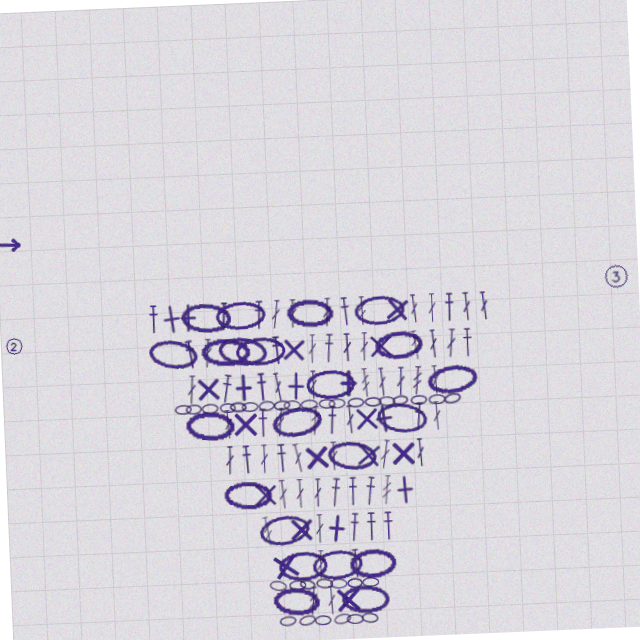chain: (145, 330, 198, 367), (371, 403, 425, 439), (249, 511, 302, 546), (266, 403, 319, 438), (215, 331, 267, 366), (423, 368, 476, 402), (320, 440, 372, 474), (301, 549, 354, 581), (180, 297, 232, 329), (260, 584, 310, 617), (180, 405, 231, 437), (354, 297, 406, 328), (215, 297, 266, 328), (286, 297, 335, 329), (216, 477, 266, 508), (199, 333, 249, 364), (373, 333, 423, 364), (329, 586, 379, 616), (268, 550, 318, 580), (234, 334, 284, 364), (339, 550, 387, 580), (303, 370, 352, 399), (286, 613, 304, 626), (321, 613, 339, 626), (440, 397, 458, 410), (258, 578, 276, 590), (288, 578, 305, 590), (267, 614, 284, 625), (349, 614, 366, 625), (305, 578, 322, 589), (226, 398, 243, 409), (270, 398, 287, 409), (255, 398, 271, 409), (389, 398, 405, 409), (302, 615, 319, 625), (334, 615, 351, 625), (278, 579, 295, 589), (319, 579, 336, 589), (351, 579, 368, 589), (171, 399, 188, 409), (198, 399, 215, 409), (238, 399, 255, 409), (280, 399, 297, 409), (297, 399, 314, 409), (315, 399, 332, 409), (325, 399, 342, 409), (344, 399, 361, 409), (361, 399, 378, 409), (375, 399, 392, 409), (407, 399, 424, 409), (425, 399, 442, 409), (336, 579, 352, 589), (182, 399, 198, 409), (216, 399, 232, 409)
double: (285, 442, 300, 472), (373, 442, 386, 472), (269, 370, 282, 400), (270, 478, 282, 507), (270, 406, 282, 435), (183, 370, 195, 399), (200, 334, 212, 363), (444, 334, 456, 363), (270, 298, 282, 327), (374, 370, 385, 399), (427, 334, 438, 363), (322, 298, 333, 327), (409, 298, 420, 327), (479, 298, 490, 327), (315, 586, 325, 615), (306, 514, 316, 543), (288, 478, 298, 507), (219, 442, 229, 471), (323, 442, 333, 471), (410, 442, 420, 471), (219, 406, 229, 435), (341, 406, 351, 435), (428, 406, 438, 435), (393, 370, 403, 399), (428, 370, 438, 399), (306, 334, 316, 363), (341, 334, 351, 363), (358, 334, 368, 363), (288, 298, 298, 327), (462, 298, 472, 327), (306, 550, 315, 579), (306, 478, 315, 507), (254, 442, 263, 471), (306, 370, 315, 399), (428, 298, 437, 327)
half_double: (216, 370, 231, 400), (321, 478, 335, 508), (356, 478, 370, 508), (182, 334, 196, 364), (339, 514, 352, 543), (408, 406, 421, 435), (269, 334, 282, 363), (321, 334, 334, 363), (339, 298, 352, 327), (340, 550, 352, 579), (235, 442, 247, 471), (270, 442, 282, 471), (322, 406, 334, 435), (253, 370, 265, 399), (218, 298, 230, 327), (253, 298, 265, 327), (357, 514, 368, 543), (374, 514, 385, 543), (340, 478, 351, 507), (253, 406, 264, 435), (461, 334, 472, 363), (148, 298, 159, 327), (444, 298, 455, 327)
noise: (604, 275, 631, 302), (3, 323, 23, 343), (0, 224, 26, 239)
single: (259, 548, 292, 581), (312, 513, 344, 545), (347, 441, 379, 473), (364, 405, 396, 437), (156, 297, 188, 329), (277, 333, 308, 364), (382, 297, 413, 328), (383, 478, 413, 508), (296, 442, 326, 472), (226, 406, 256, 436), (278, 370, 308, 400), (322, 586, 351, 615), (278, 514, 307, 543), (244, 478, 273, 507), (383, 442, 412, 471), (348, 406, 377, 435), (191, 370, 220, 399), (226, 370, 255, 399), (365, 334, 394, 363), (174, 298, 203, 327), (332, 370, 360, 399)
treble: (252, 514, 266, 544), (408, 334, 421, 364), (373, 478, 386, 507), (408, 370, 421, 399), (305, 406, 317, 435), (357, 370, 369, 399), (296, 586, 307, 615), (358, 298, 367, 327)
